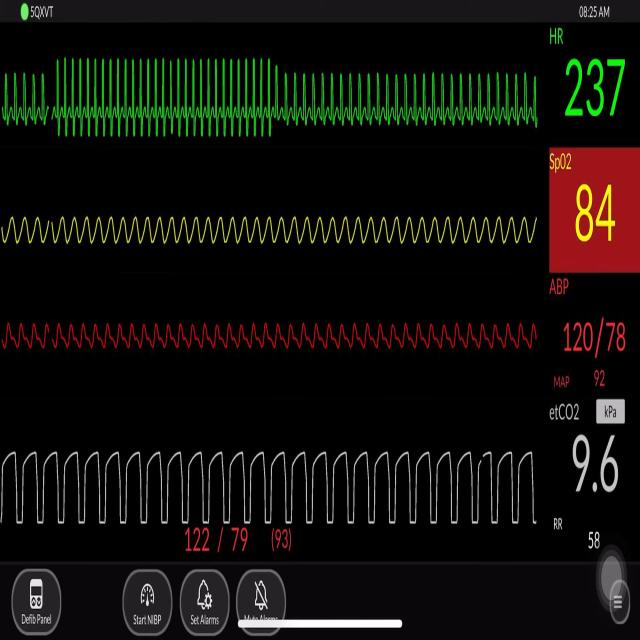danger: (54, 40, 284, 151), (290, 54, 545, 137), (2, 51, 48, 140)
